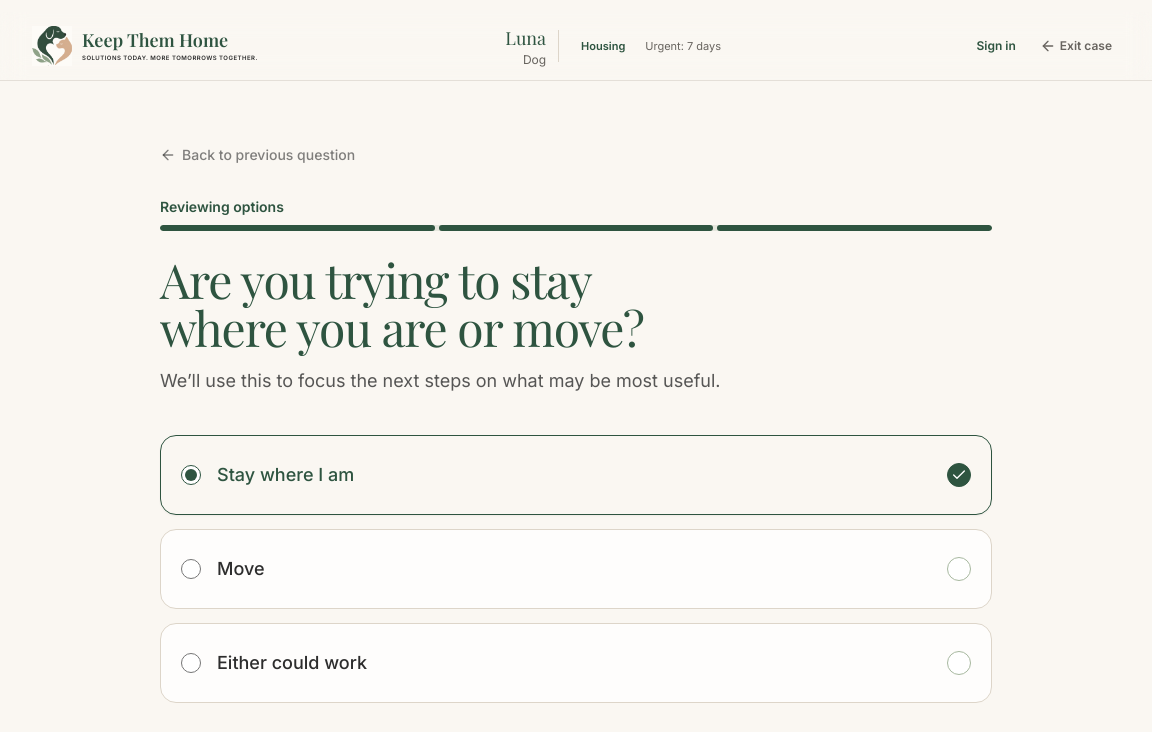
Test: Keep Them Home demo flows › restores an active Luna Housing case and its selected answers
This screenshot has width=1152, height=732.
Check: the heading "Are you trying to stay where you are or move?" is shown, box [160, 247, 644, 359]
Check: the radio button labelled "Stay where I am" is checked, box [181, 465, 201, 485]
Click the button "Back to previous question".
click(258, 155)  # box [156, 145, 359, 165]
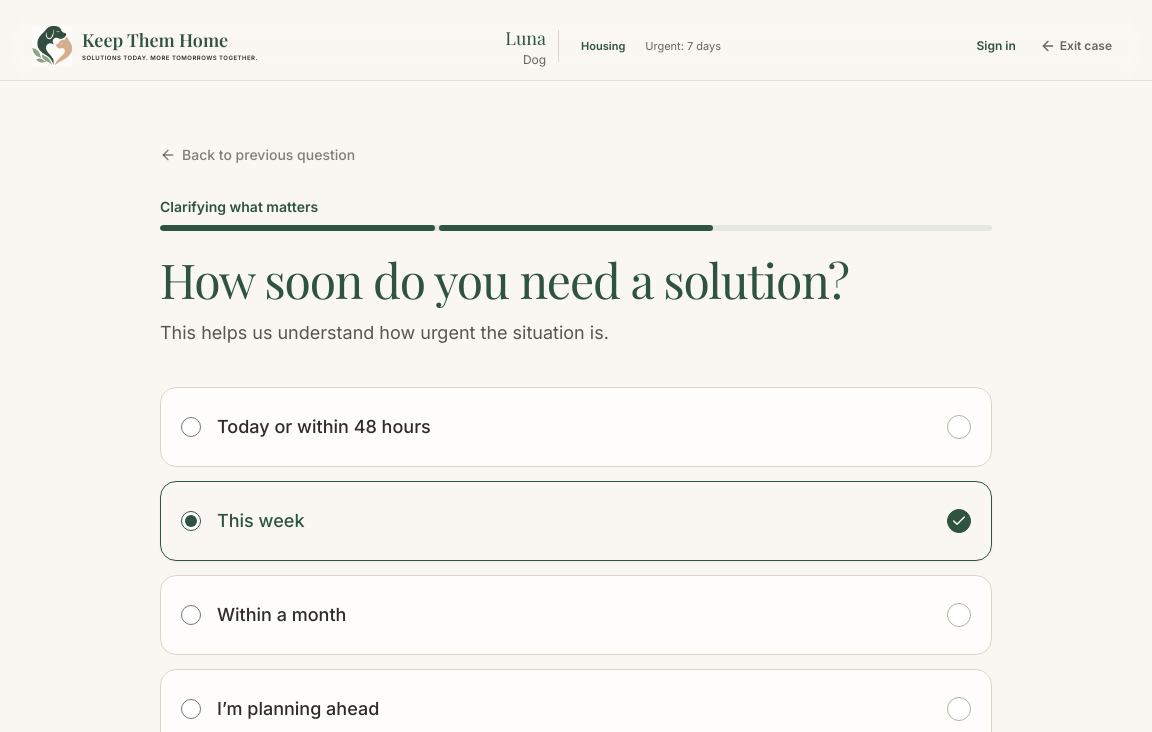
Check: the radio button labelled "This week" is checked, box [181, 511, 201, 531]
